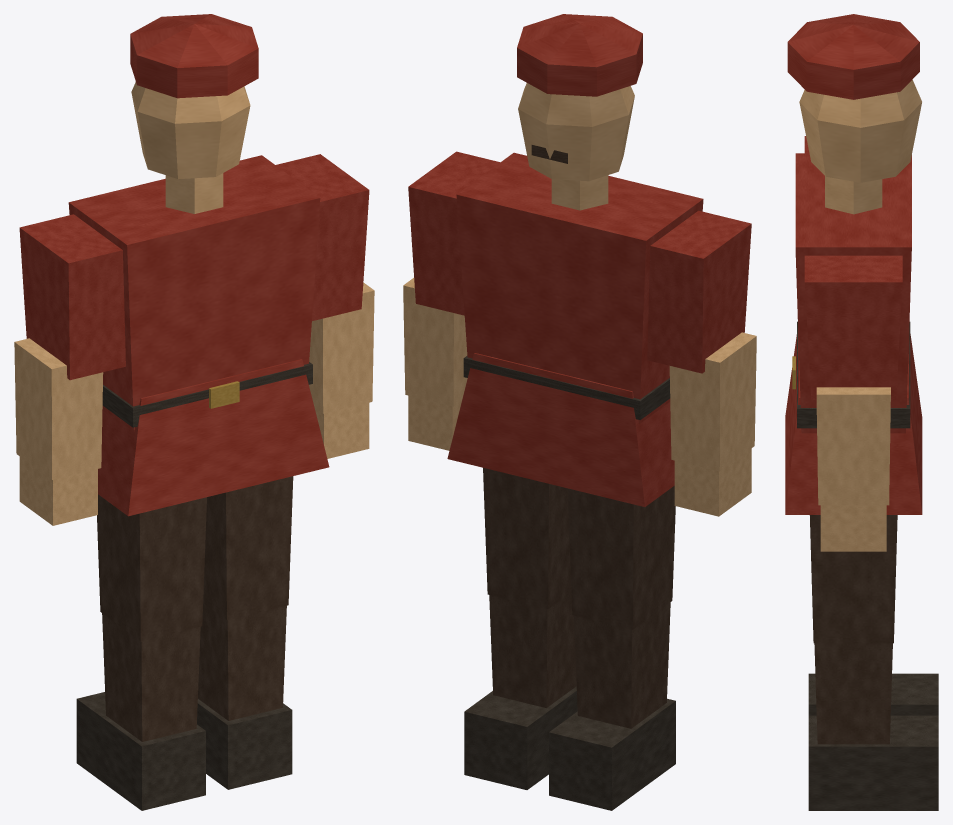
File: person.glb
3 renders of one model, left to right at view 1: azimuth 30°, elevation 25°; view 2: azimuth 150°, elevation 25°; view 3: azimuth 270°, elevation 25°, orthographic.
Visible parts, largest first — view 1: person; view 2: person; view 3: person.
Part boxes in pixels (x1,y1,x2,y2): person: (14,14,374,810); person: (403,14,756,810); person: (785,14,938,810).
Bounding box in the file's own units: 0.786 × 1.75 × 0.325.
Materials: 1 (1 with a texture image).
